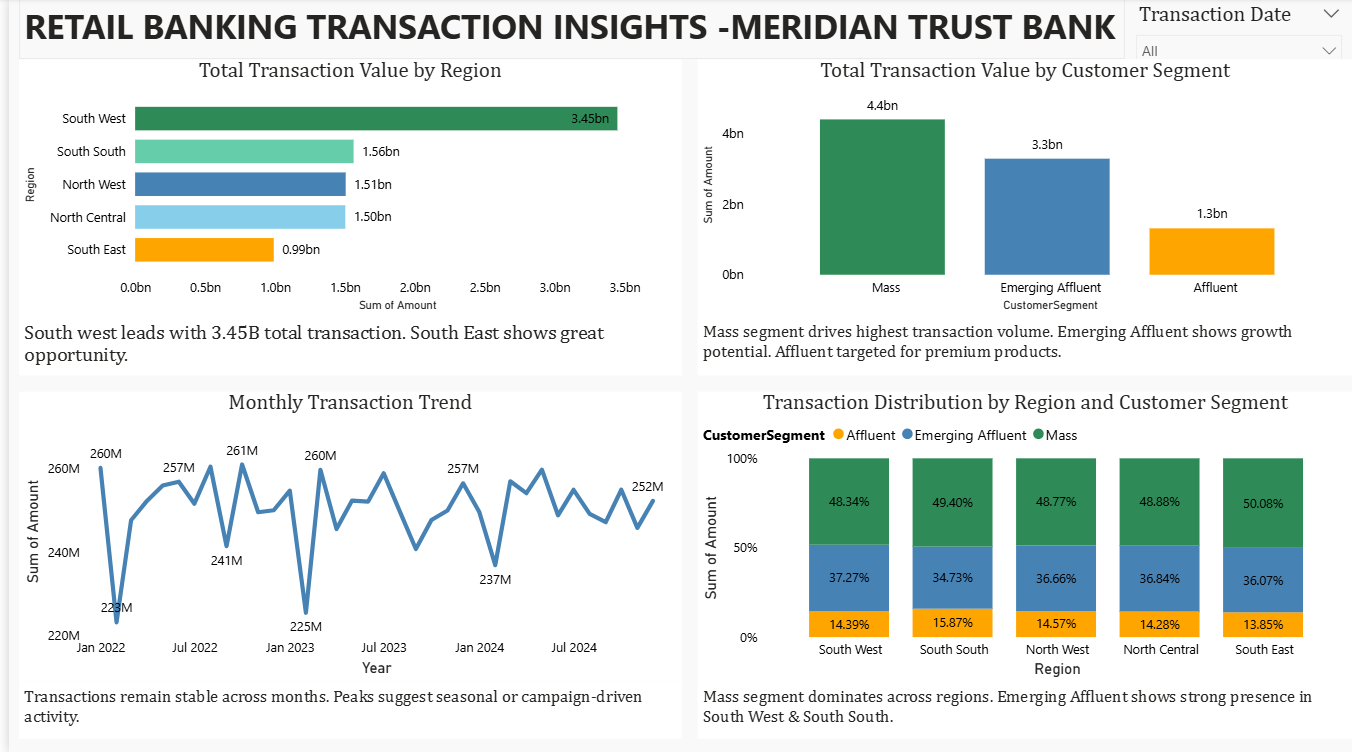

What the dashboard file says about the page in this screenshot:
{"tool":"powerbi","page":{"name":"Page 1","canvas":[1280,720],"ordinal":0},"visuals":[{"type":"textbox","box":[9.5,0,1053.6,58.3],"z":0},{"type":"slicer","fields":{"Values":["Transactions.TransactionDate.Variation.Date Hierarchy.Year","Transactions.TransactionDate.Variation.Date Hierarchy.Month"]},"box":[1063.1,0,216.7,58.3],"z":1},{"type":"barChart","title":"Total Transaction Value by Region","fields":{"Category":["Transactions.Region"],"Y":["Sum(Transactions.Amount)"]},"box":[9.5,58.3,631,245.2],"z":2},{"type":"textbox","box":[9.5,303.6,631,56],"z":3},{"type":"clusteredColumnChart","title":"Total Transaction Value by Customer Segment","fields":{"Category":["Transactions.CustomerSegment"],"Y":["Sum(Transactions.Amount)"]},"box":[656,58.3,623.8,245.2],"z":4},{"type":"textbox","box":[656,303.6,623.8,56],"z":5},{"type":"lineChart","title":"Monthly Transaction Trend","fields":{"Y":["Sum(Transactions.Amount)"],"Category":["Transactions.TransactionMonth.Variation.Date Hierarchy.Year","Transactions.TransactionMonth.Variation.Date Hierarchy.Month"]},"box":[9.5,375,631,276.2],"z":6},{"type":"textbox","box":[9.5,651.2,631,54.8],"z":7},{"type":"hundredPercentStackedColumnChart","title":"Transaction Distribution by Region and Customer Segment","fields":{"Category":["Transactions.Region"],"Y":["Sum(Transactions.Amount)"],"Series":["Transactions.CustomerSegment"]},"box":[656,375,623.8,277.4],"z":8},{"type":"textbox","box":[656,651.2,623.8,54.8],"z":9}]}

Visuals, with their boxes in screenshot pixels (x1, y1, x2, y2), scaled from the page's 1280x720 canvas onto the 1352x752 screenshot:
textbox: [10,0,1123,61]
slicer - Transactions.TransactionDate.Variation.Date Hierarchy.Year x Transactions.TransactionDate.Variation.Date Hierarchy.Month: [1123,0,1351,61]
"Total Transaction Value by Region" barChart: [10,61,677,317]
textbox: [10,317,677,376]
"Total Transaction Value by Customer Segment" clusteredColumnChart: [693,61,1351,317]
textbox: [693,317,1351,376]
"Monthly Transaction Trend" lineChart: [10,392,677,680]
textbox: [10,680,677,737]
"Transaction Distribution by Region and Customer Segment" hundredPercentStackedColumnChart: [693,392,1351,681]
textbox: [693,680,1351,737]
